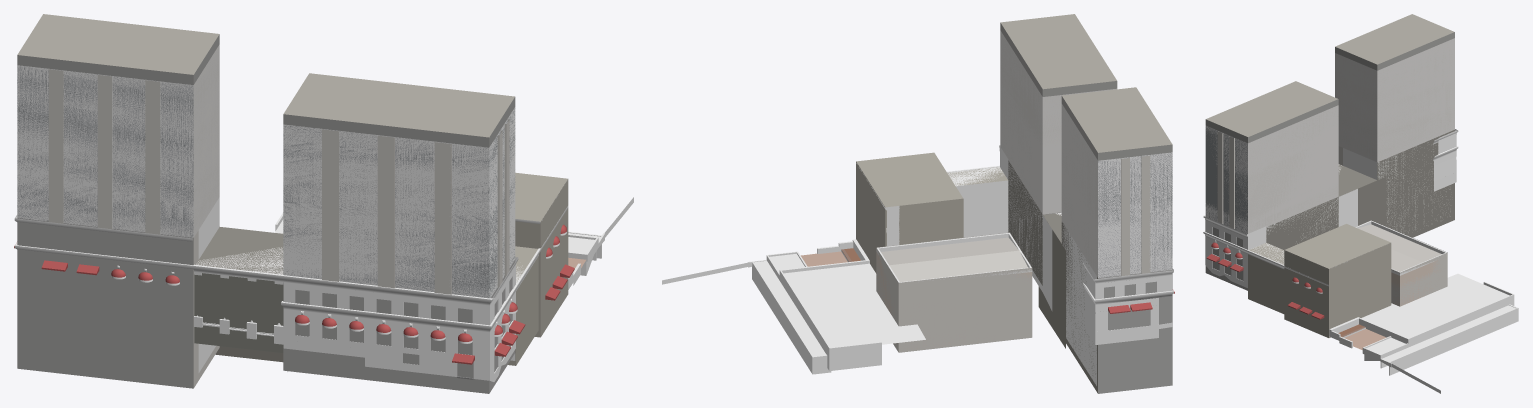
The model's file is city_block3.dae.
The picture shows the model from 3 angles, left to right: view 1: azimuth 30°, elevation 25°; view 2: azimuth 150°, elevation 25°; view 3: azimuth 270°, elevation 25°; orthographic projection. The views are drawn at different scales.
Visible parts, largest first — view 1: city_block3_a1000, city_block3_a500, city_block3_a2000; view 2: city_block3_a1000, city_block3_a2000, city_block3_a500; view 3: city_block3_a1000, city_block3_a2000, city_block3_a500.
Part boxes in pixels (x1,y1,x2,y2): city_block3_a1000: (17, 14, 568, 393); city_block3_a500: (17, 44, 515, 298); city_block3_a2000: (14, 76, 633, 381); city_block3_a1000: (856, 14, 1172, 393); city_block3_a2000: (662, 145, 1174, 385); city_block3_a500: (1000, 32, 1172, 277); city_block3_a1000: (1205, 14, 1454, 337); city_block3_a2000: (1203, 129, 1518, 393); city_block3_a500: (1205, 38, 1454, 233).
Size of the model in its own units: 132 by 93.52 by 64.68.
